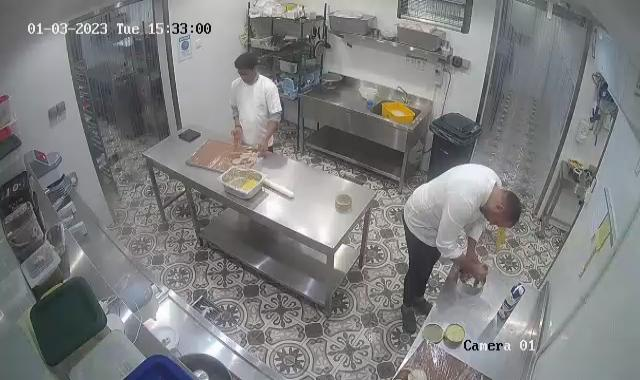no_hairnet: (484, 186, 524, 227), (234, 50, 259, 78)
